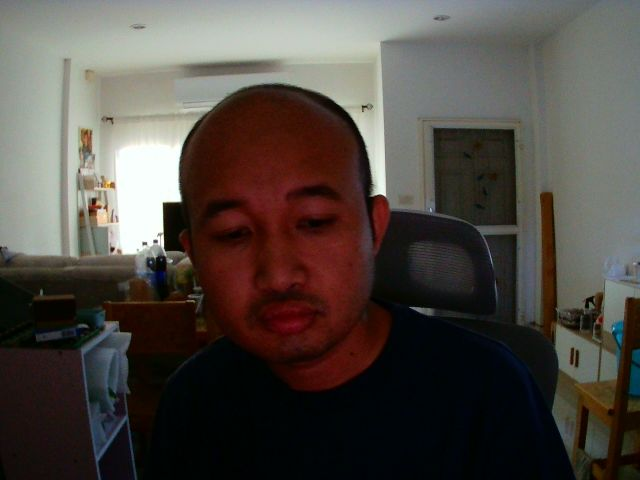face: (173, 88, 383, 369)
